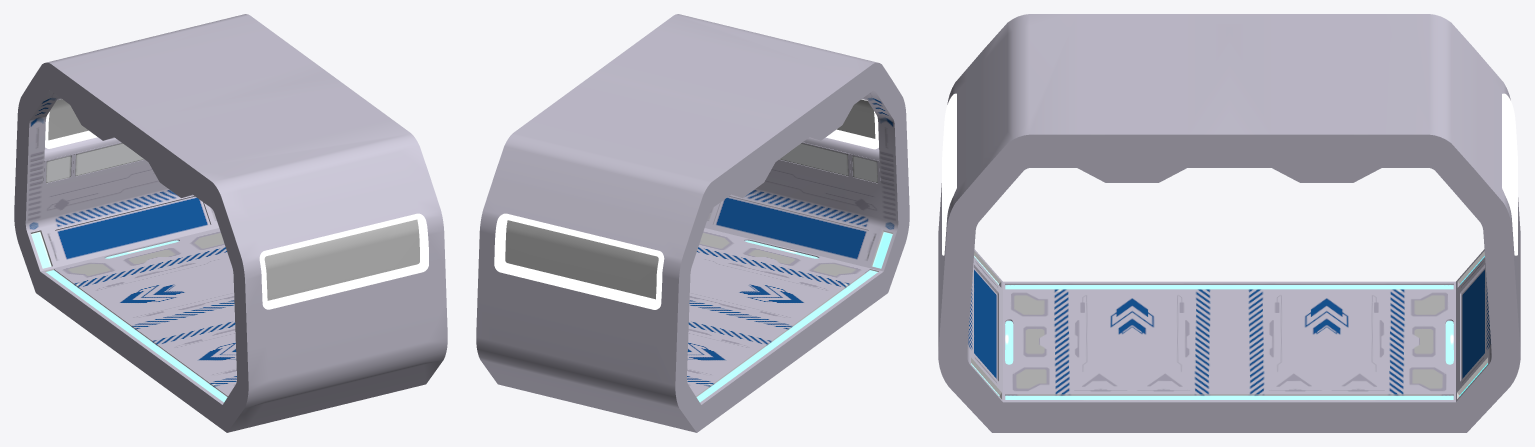
Rendered from SM_CoridorWallLargeWindow.fbx.
3 views of the same model, side by side, from view 1: azimuth 30°, elevation 25°; view 2: azimuth 150°, elevation 25°; view 3: azimuth 270°, elevation 25° (orthographic). The views are drawn at different scales.
Parts seen in each view (by area): view 1: SM_CoridorWallLargeWindow_LOD0; view 2: SM_CoridorWallLargeWindow_LOD0; view 3: SM_CoridorWallLargeWindow_LOD0.
Part boxes in pixels (bbox=[...]): SM_CoridorWallLargeWindow_LOD0: bbox=[14, 14, 447, 432]; SM_CoridorWallLargeWindow_LOD0: bbox=[476, 14, 909, 432]; SM_CoridorWallLargeWindow_LOD0: bbox=[938, 14, 1520, 432].
Size of the model in its own units: 358 by 731 by 413.
